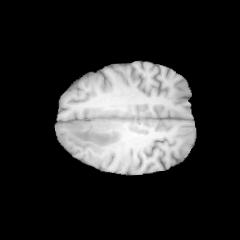glioma: (70, 120, 120, 146)
